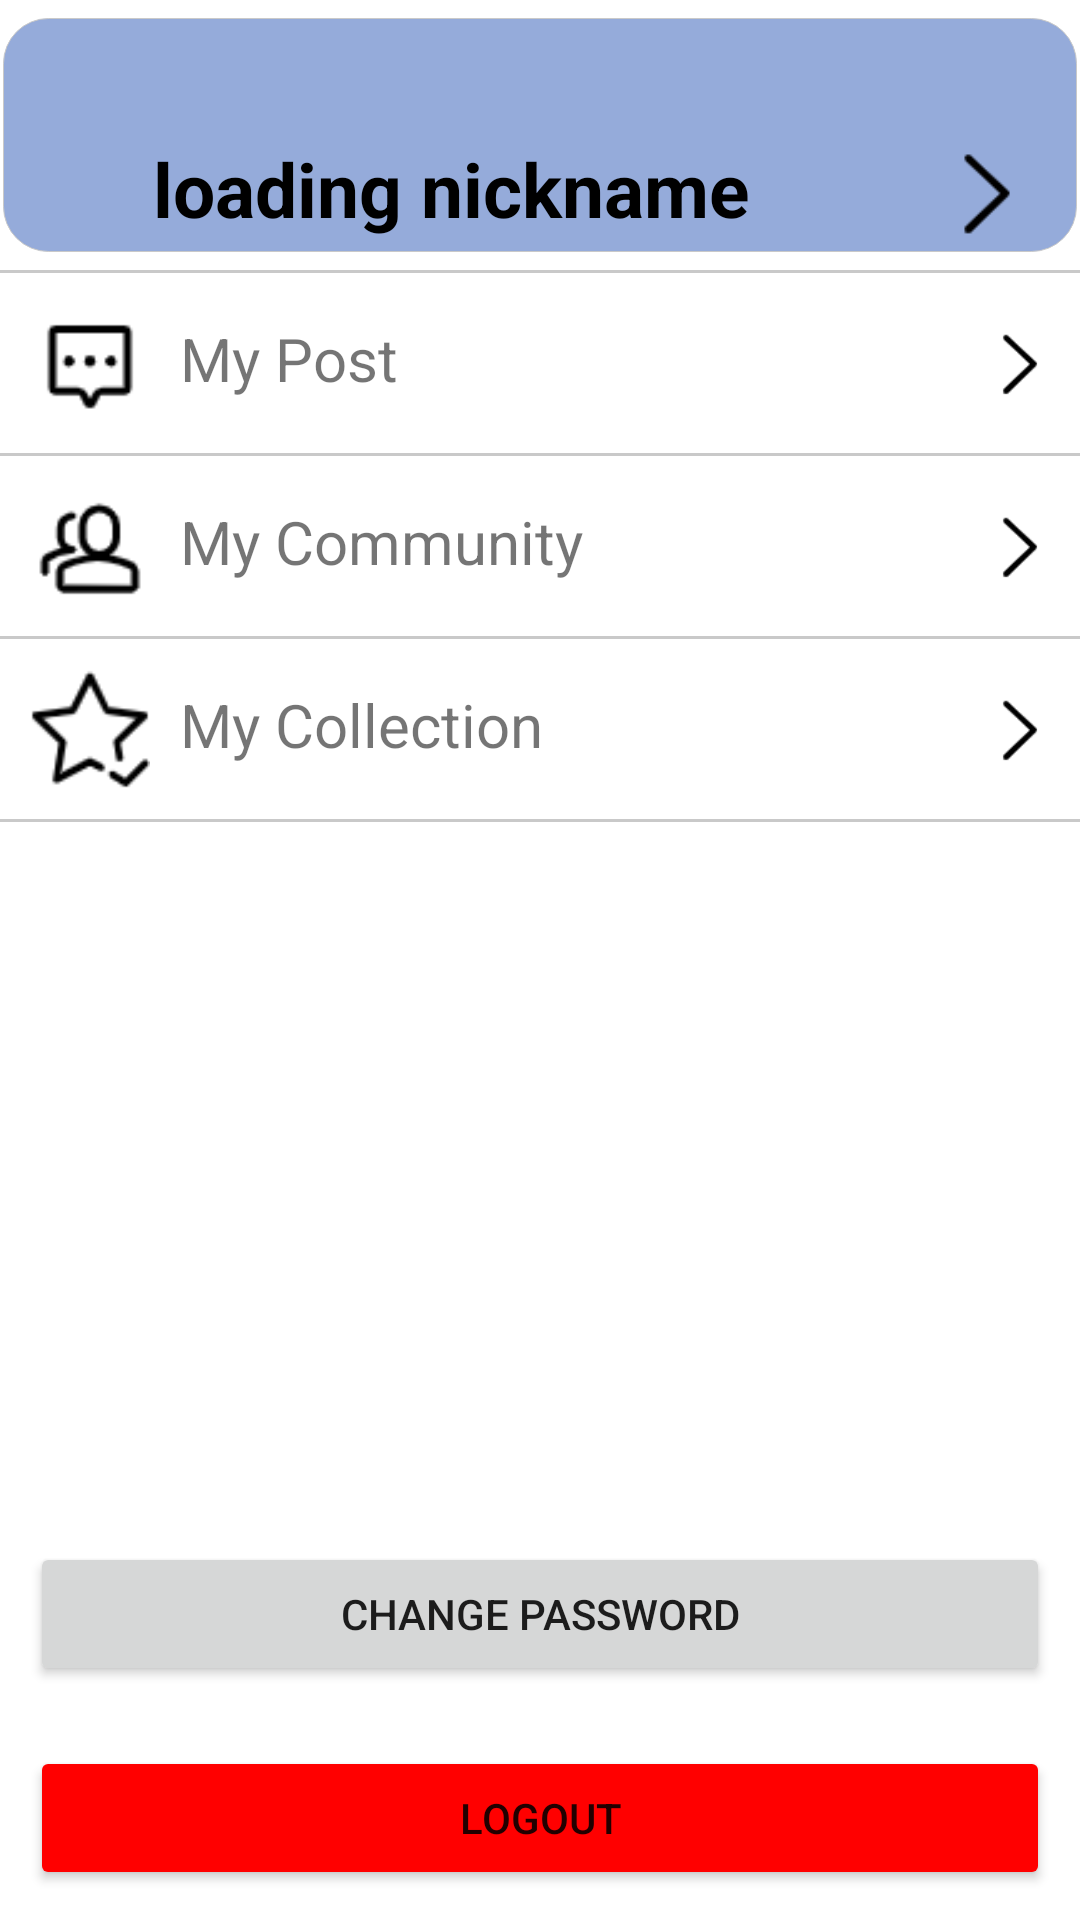

Icon bounding boxes for this 1080x1920 phone screenshot, format bbox=(x1, y1, x2, y2):
right arrow: bbox=(964, 154, 1010, 234), bbox=(1003, 334, 1037, 394), bbox=(1003, 517, 1037, 577), bbox=(1003, 700, 1037, 760)
